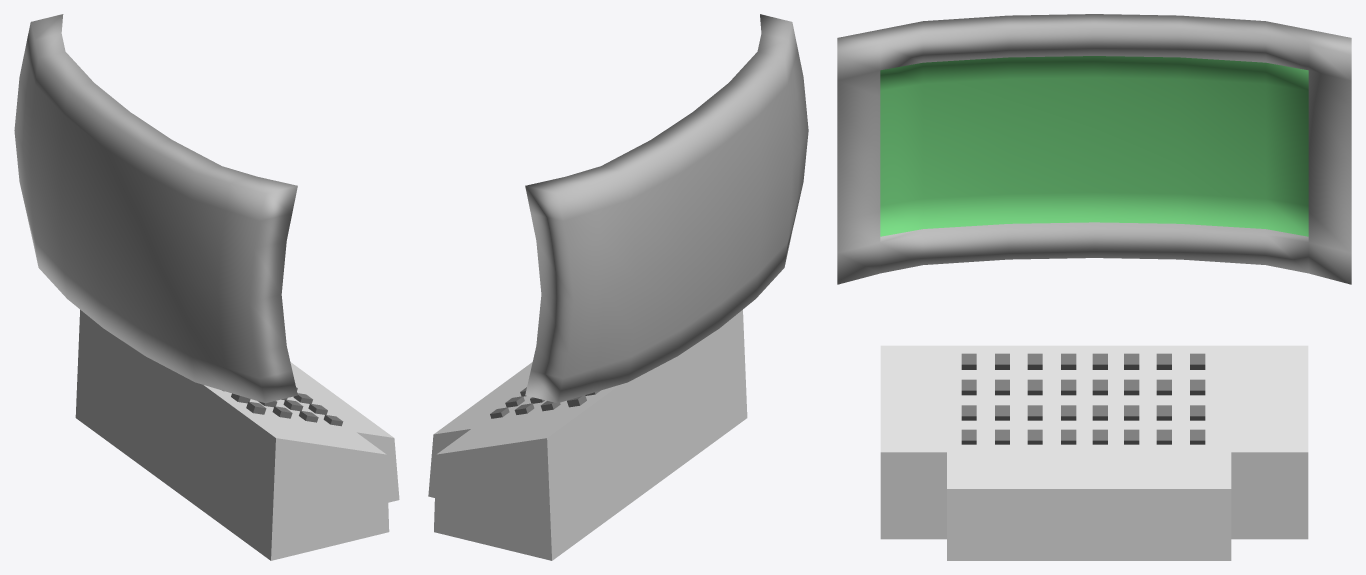
File: computer_FBX.fbx
3 views of the same model, side by side, from view 1: azimuth 30°, elevation 25°; view 2: azimuth 150°, elevation 25°; view 3: azimuth 270°, elevation 25° (orthographic). The views are drawn at different scales.
Visible parts, largest first — view 1: Cube, Cube.001; view 2: Cube, Cube.001; view 3: Cube, Cube.001.
Part boxes in pixels (left/top/right/bottom): Cube: left=14, top=14, right=297, bottom=403; Cube.001: left=75, top=309, right=399, bottom=560; Cube: left=525, top=14, right=808, bottom=403; Cube.001: left=428, top=310, right=747, bottom=560; Cube: left=837, top=14, right=1351, bottom=284; Cube.001: left=880, top=345, right=1308, bottom=560.
Bounding box in the file's own units: 185 × 292 × 320.
